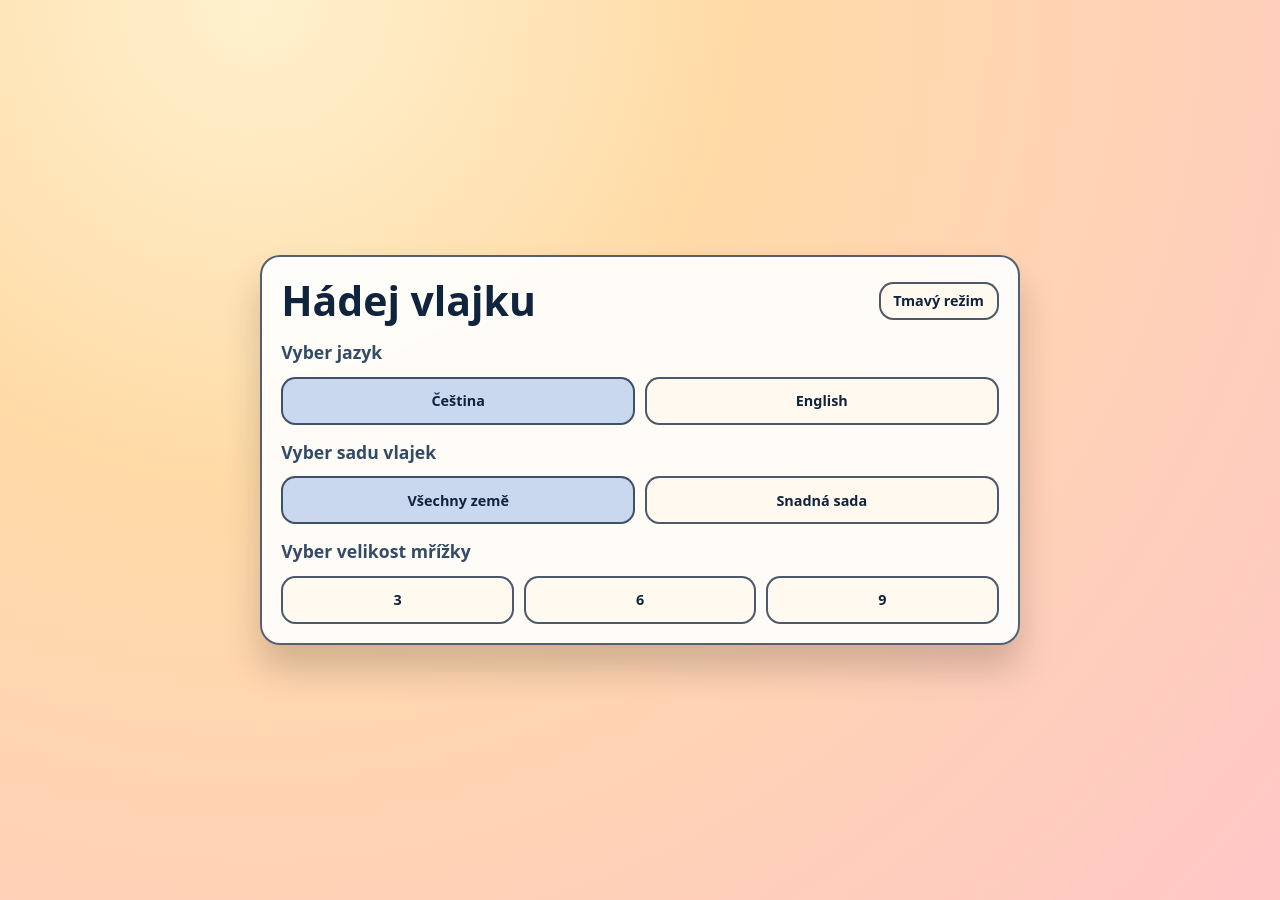
Test: App › starts a game from the menu and plays the current country prompt
Click the button "English": (822, 401) [645,377,999,425]
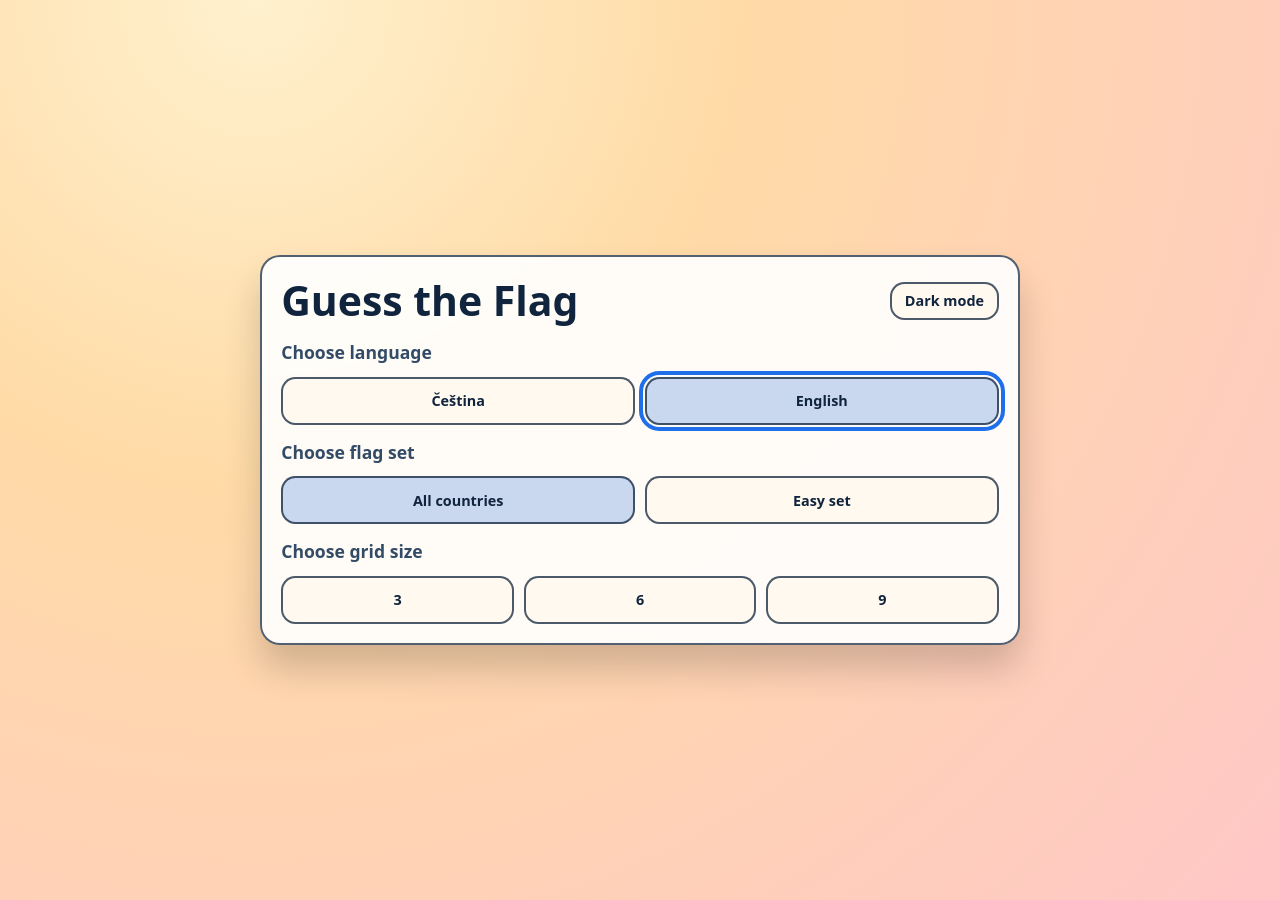
Click the button "3": (398, 600) [281,576,514,624]
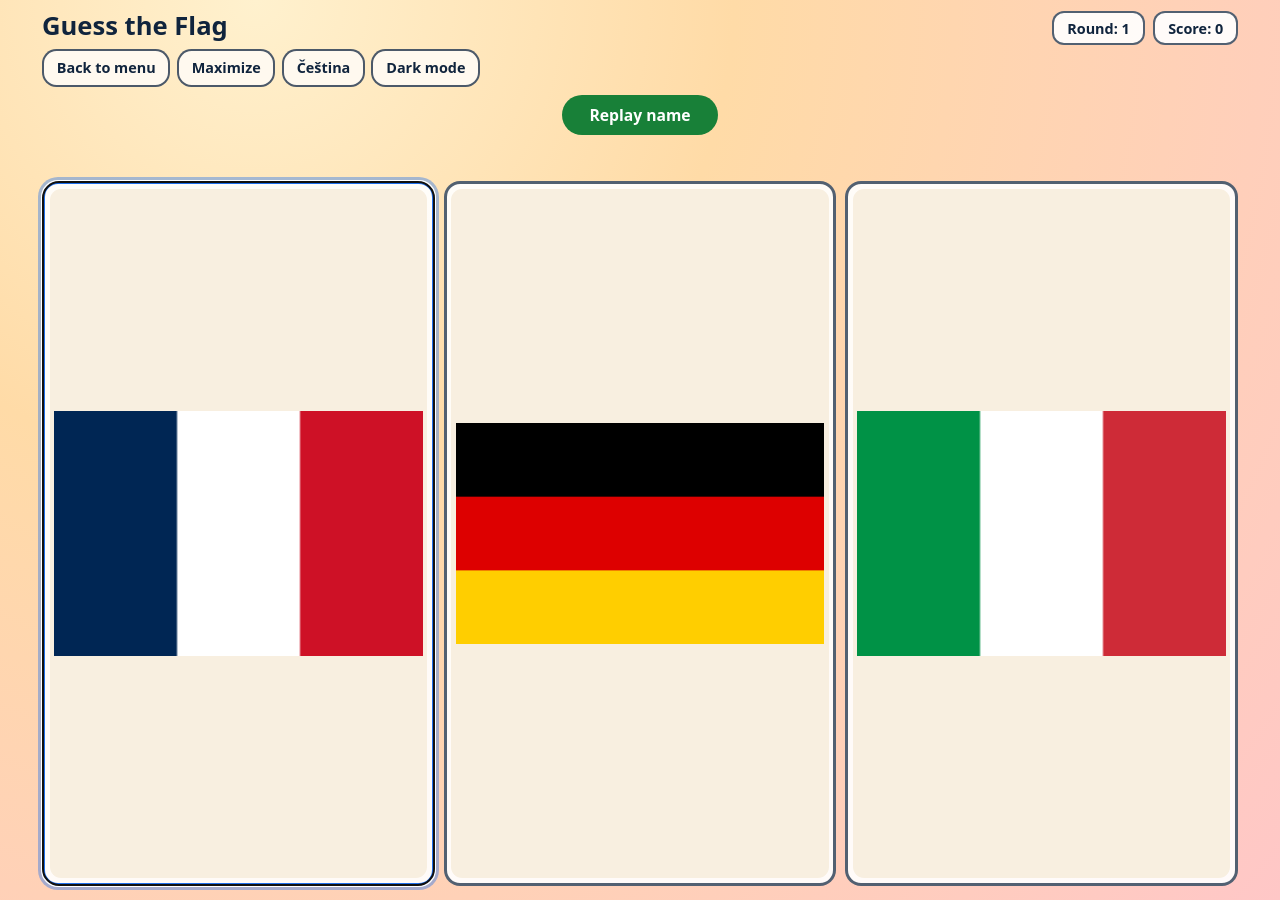
Now the button "Replay name" is shown, box [562,96,718,136]
Now the text "Round: 1" is shown, box [1052,11,1144,45]
Now the text "Score: 0" is shown, box [1153,11,1238,45]
